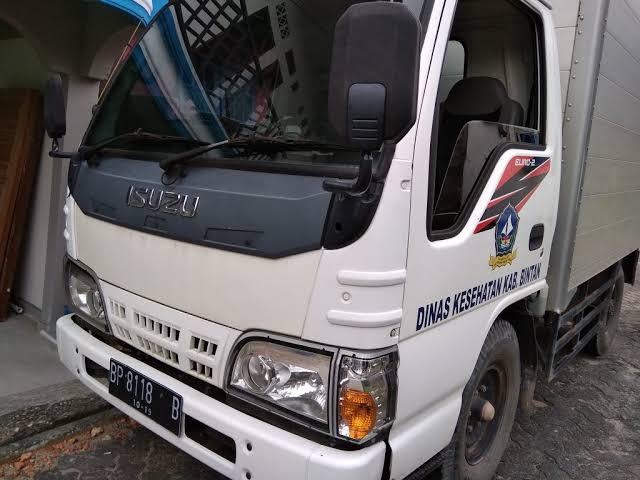plate: (109, 356, 182, 439)
